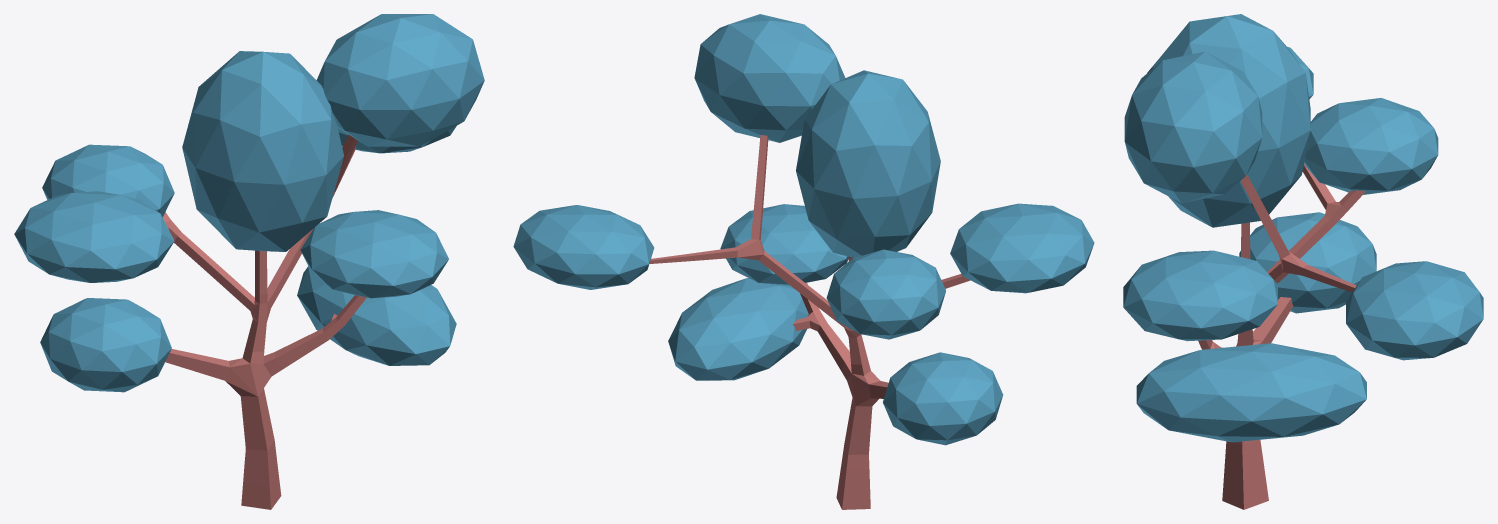
File: Arbol_3_.fbx
3 renders of one model, left to right at view 1: azimuth 30°, elevation 25°; view 2: azimuth 150°, elevation 25°; view 3: azimuth 270°, elevation 25°, orthographic. The views are drawn at different scales.
Parts seen in each view (by area): view 1: Cube; view 2: Cube; view 3: Cube.
Boxes of the visible parts, <box> form: Cube: <box>14,14,484,509</box>; Cube: <box>513,14,1094,509</box>; Cube: <box>1123,14,1483,509</box>.
Bounding box in the file's own units: 954 × 829 × 543.
